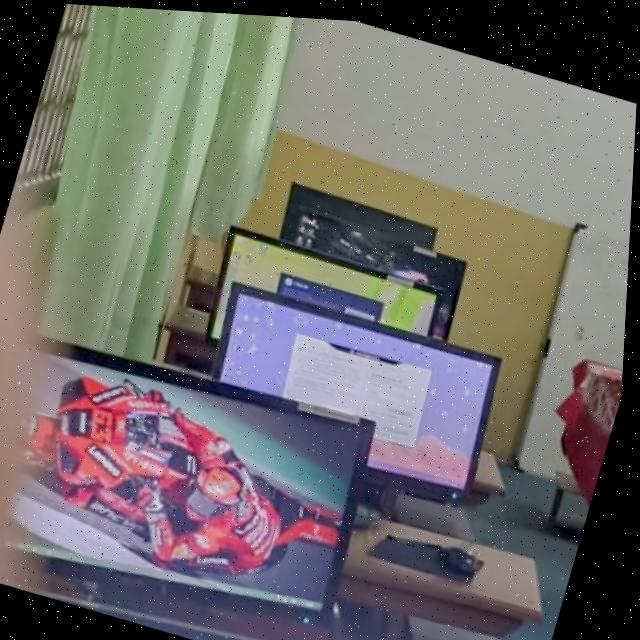offscreen: (291, 180, 437, 243)
onscreen: (27, 349, 374, 614), (221, 285, 501, 492), (212, 232, 445, 338), (285, 205, 466, 336)
